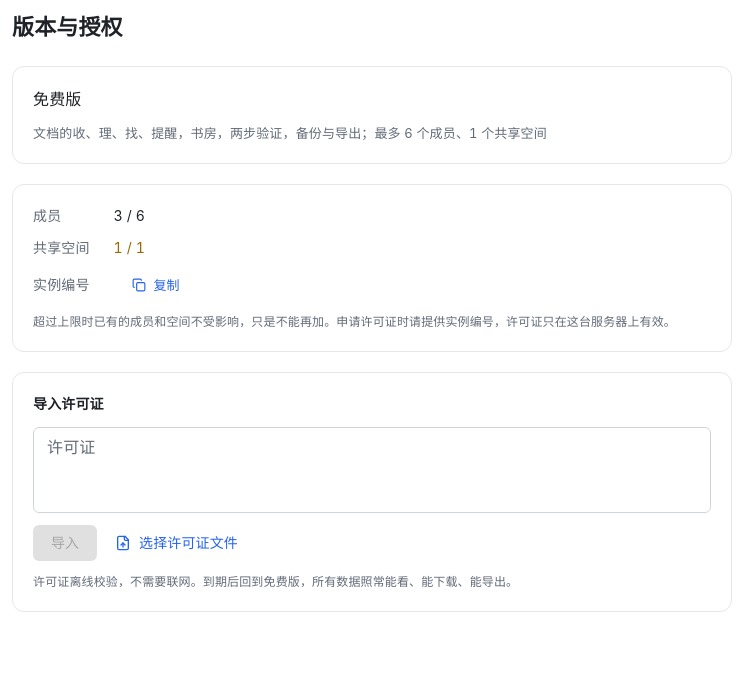
Test: EditionPanel › 许可证不对时显示服务端的说明
The image size is (749, 689).
In the text box labelled "许可证": {"x": 372, "y": 470} [47,436,697,504], type "KEPT1.x.y"
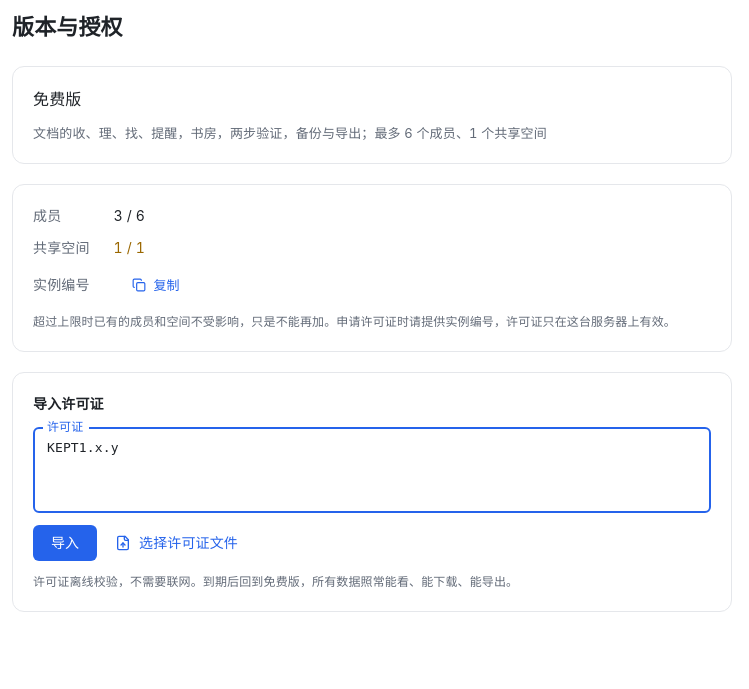
Click the button "导入": {"x": 65, "y": 543} [33,525,97,561]
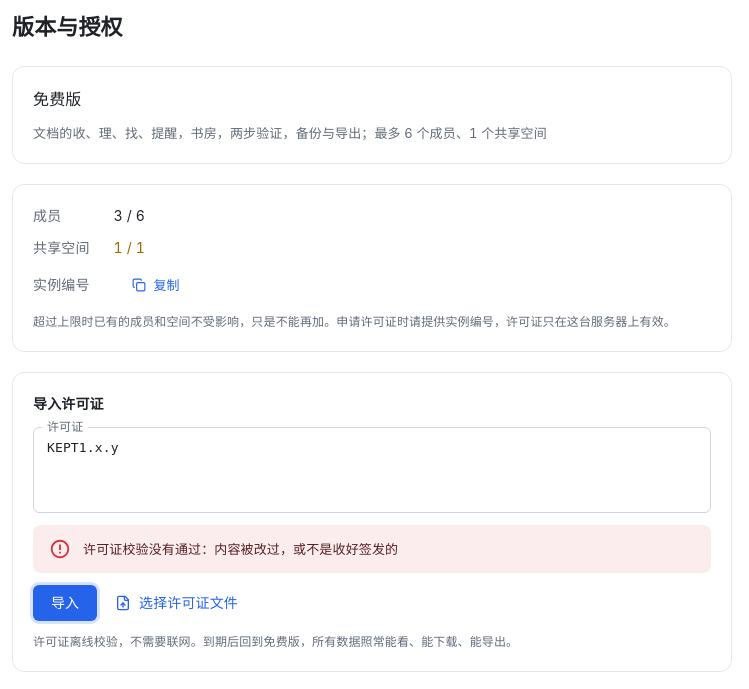
Check: the text "许可证校验没有通过：内容被改过，或不是收好签发的" is shown, box [83,541,398,557]
